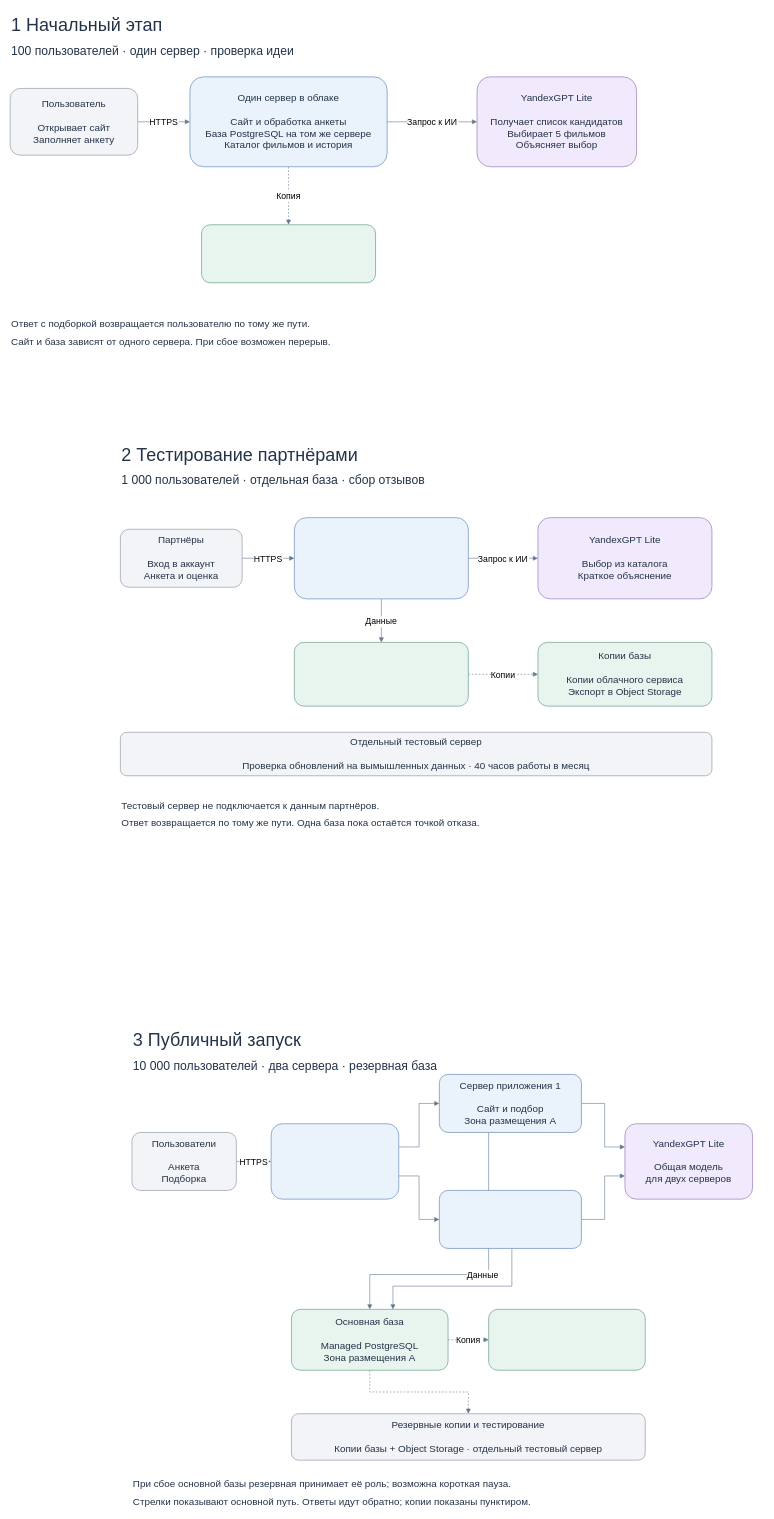
The diagram is 774 pixels wide and 1519 high, and some of its shapes have lost their labels. The box of each missing label's shape, as (x1, y1, x2, y2) in pixels:
Балансировщик Network Load Balancer Распределяет обращения: (271, 1123, 399, 1199)
Облачная база данных Managed PostgreSQL Профили, каталог, история: (294, 642, 468, 706)
Резервная база Копия основной базы Зона размещения Б: (488, 1309, 645, 1370)
Резервные копии Object Storage Ежедневное сохранение базы: (201, 224, 376, 283)
Сервер приложения 2 Сайт и подбор Зона размещения Б: (439, 1190, 581, 1248)
Сервер приложения Сайт и подбор фильмов Проверка данных Журнал ошибок: (294, 517, 468, 599)
